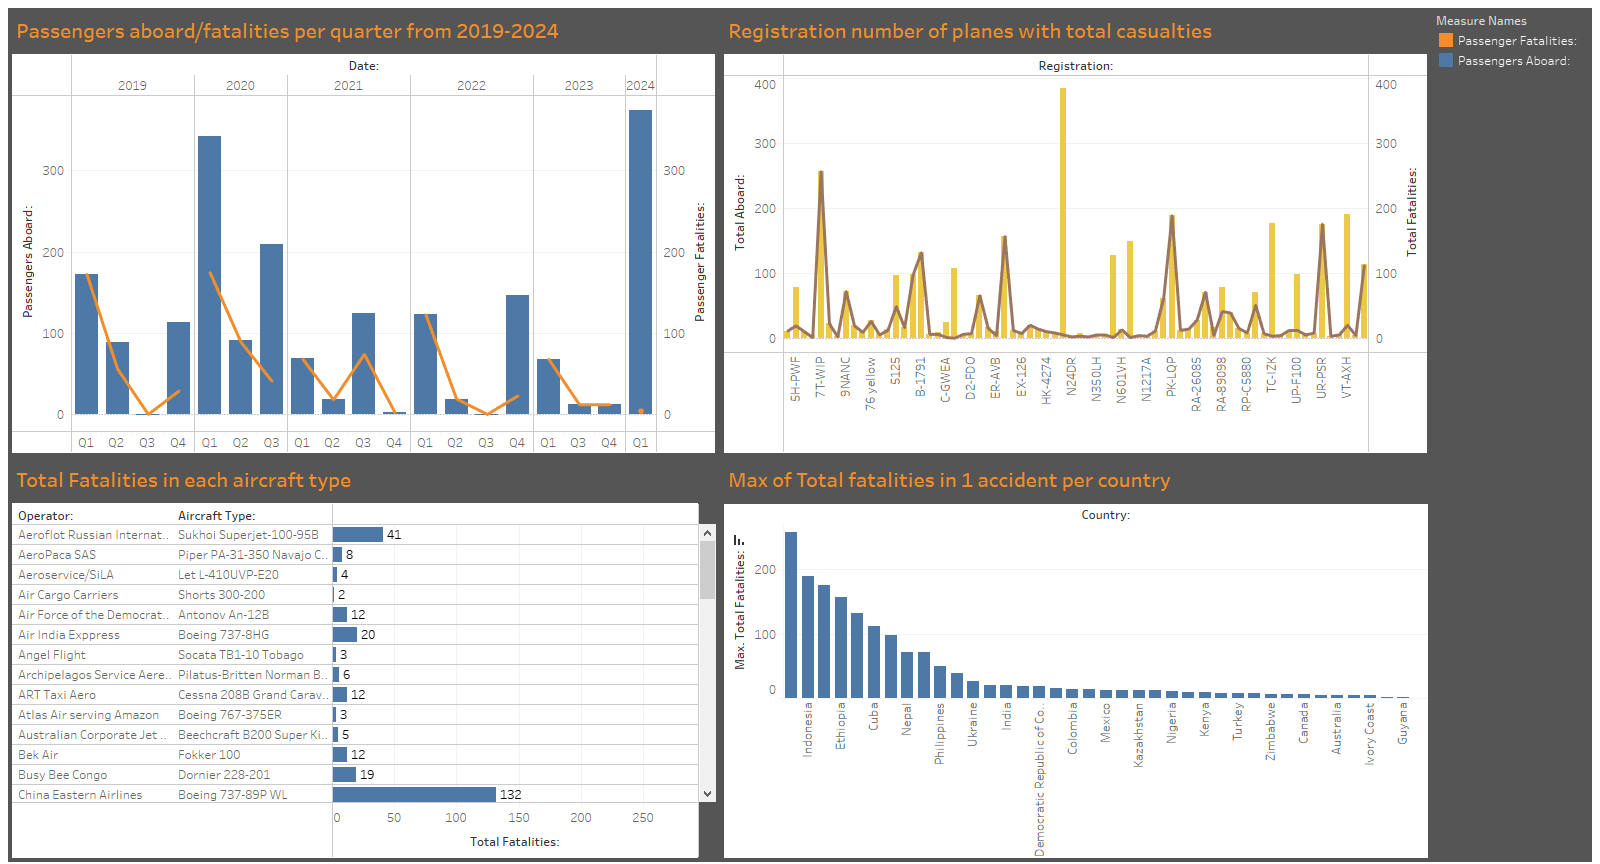

What the dashboard file says about the page in this screenshot:
{"tool":"tableau","page":{"name":"Dashboard 3","canvas":[1000,1000],"units":"permille","ordinal":2},"visuals":[{"type":"worksheet","title":"Passengers aboard/fatalities per quarter from 2019-2024","mark":"Automatic","box":[5.8,10.5,436.6,514.4]},{"type":"worksheet","title":"Registration number of planes with total casualties","mark":"Automatic","box":[442.4,10.5,436.7,514.4]},{"type":"legend","title":"Passengers aboard/fatalities per quarter from 2019-2024","param":"[federated.18n7opj0642oc31chzces1jfogys].[:Measure Names]","box":[879.1,10.5,115.2,86.4]},{"type":"worksheet","title":"Total Fatalities in each aircraft type","mark":"Automatic","box":[5.8,524.9,436.6,464.7]},{"type":"worksheet","title":"Max of Total fatalities in 1 accident per country","mark":"Automatic","box":[442.4,524.9,436.7,464.7]}]}

Visuals, with their boxes on the dashboard's canvas, which has no fixed pixel size, in thousandths of its width and height (x1, y1, x2, y2). These are canvas units, not pixel positions in the 1600x864 screenshot, which may show the page scaled, cropped or inside an application window:
"Passengers aboard/fatalities per quarter from 2019-2024" worksheet: BBox(6, 10, 442, 525)
"Registration number of planes with total casualties" worksheet: BBox(442, 10, 879, 525)
"Passengers aboard/fatalities per quarter from 2019-2024" legend: BBox(879, 10, 994, 97)
"Total Fatalities in each aircraft type" worksheet: BBox(6, 525, 442, 990)
"Max of Total fatalities in 1 accident per country" worksheet: BBox(442, 525, 879, 990)
